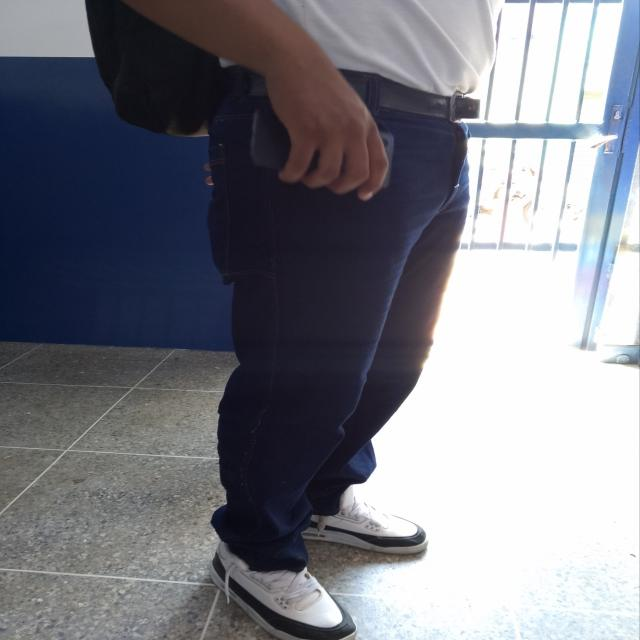pantalon_oscuro: (204, 93, 472, 575)
